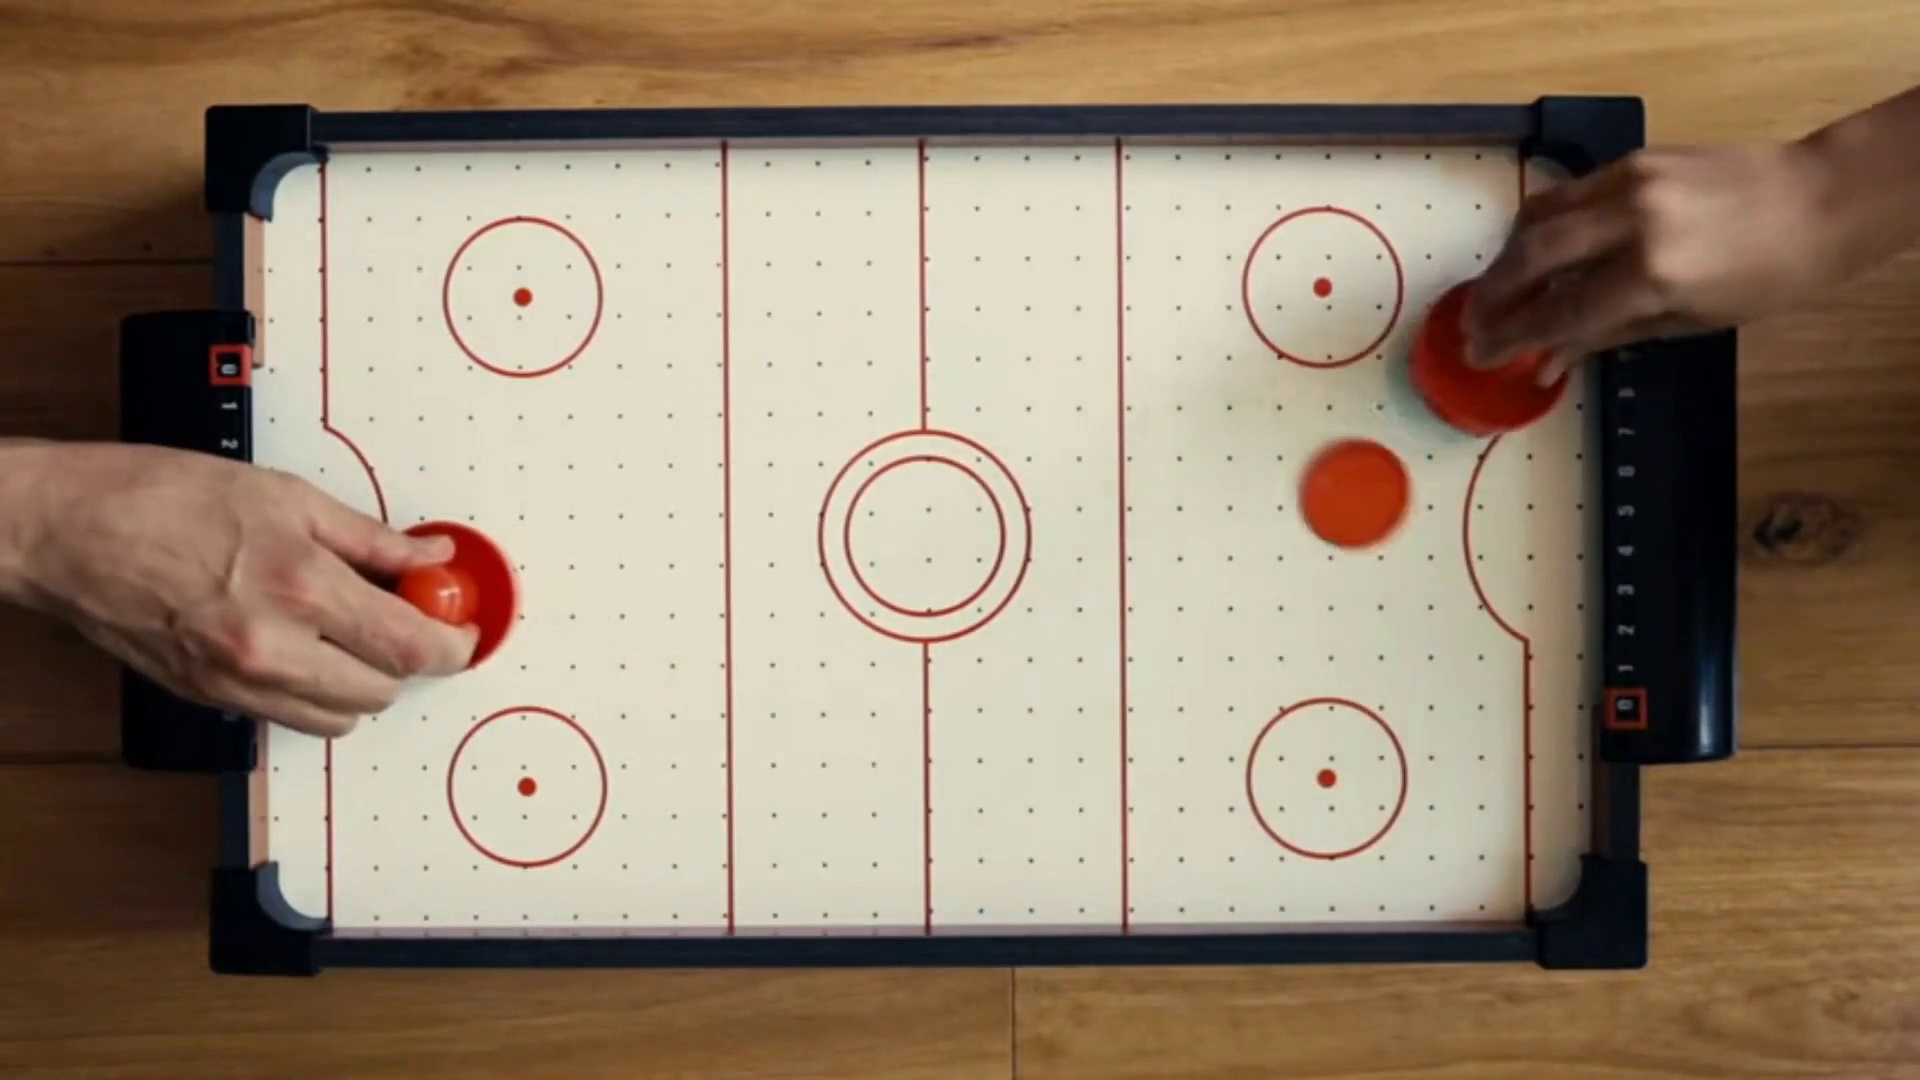player1: (364, 523, 518, 680)
player2: (1411, 279, 1570, 440)
puck: (1296, 438, 1405, 552)
table: (264, 145, 1589, 919)
